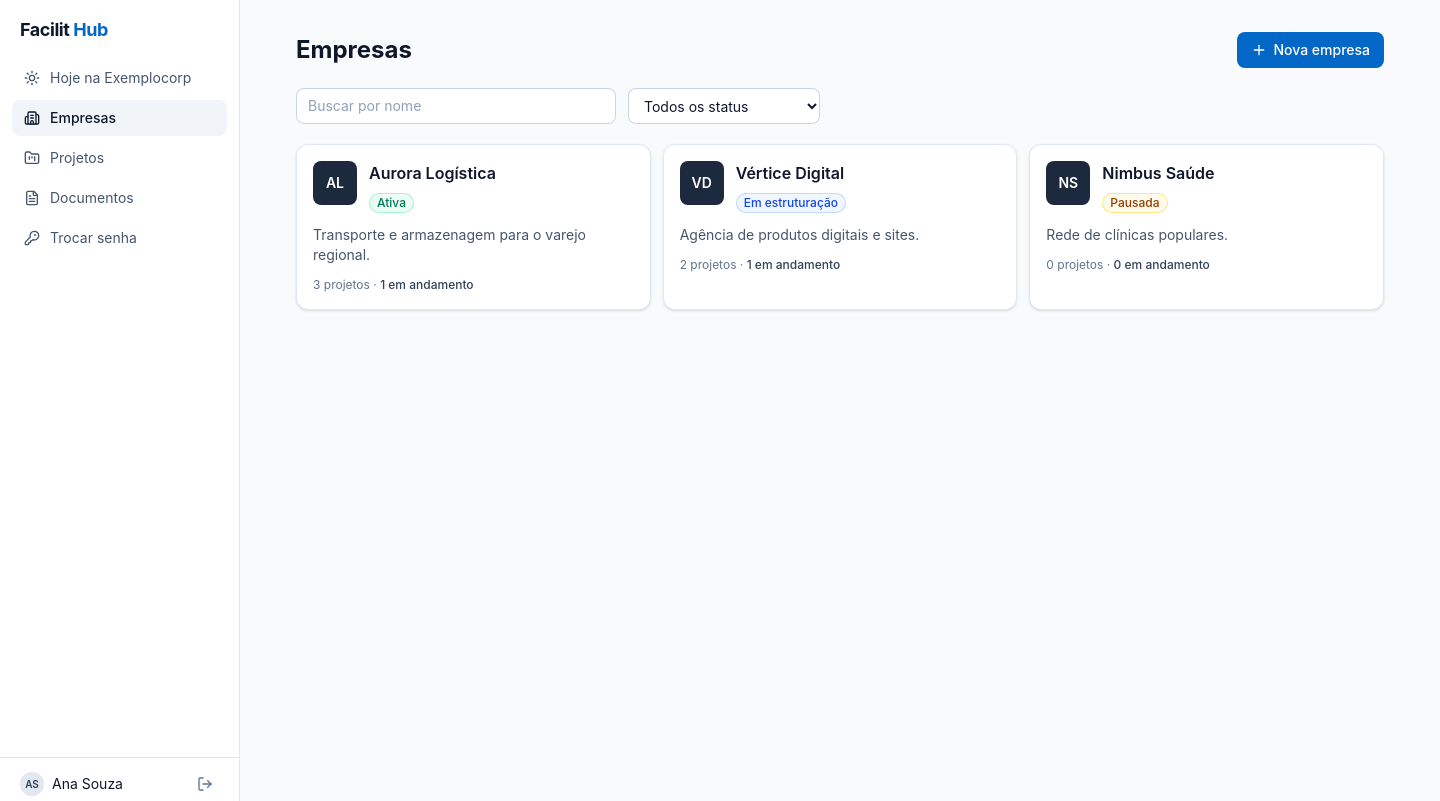
Test: empresas › cria empresa em estruturação e abre o ambiente dela
This screenshot has width=1440, height=801.
Click the button "Nova empresa" at (1311, 50), box [1237, 32, 1384, 68]
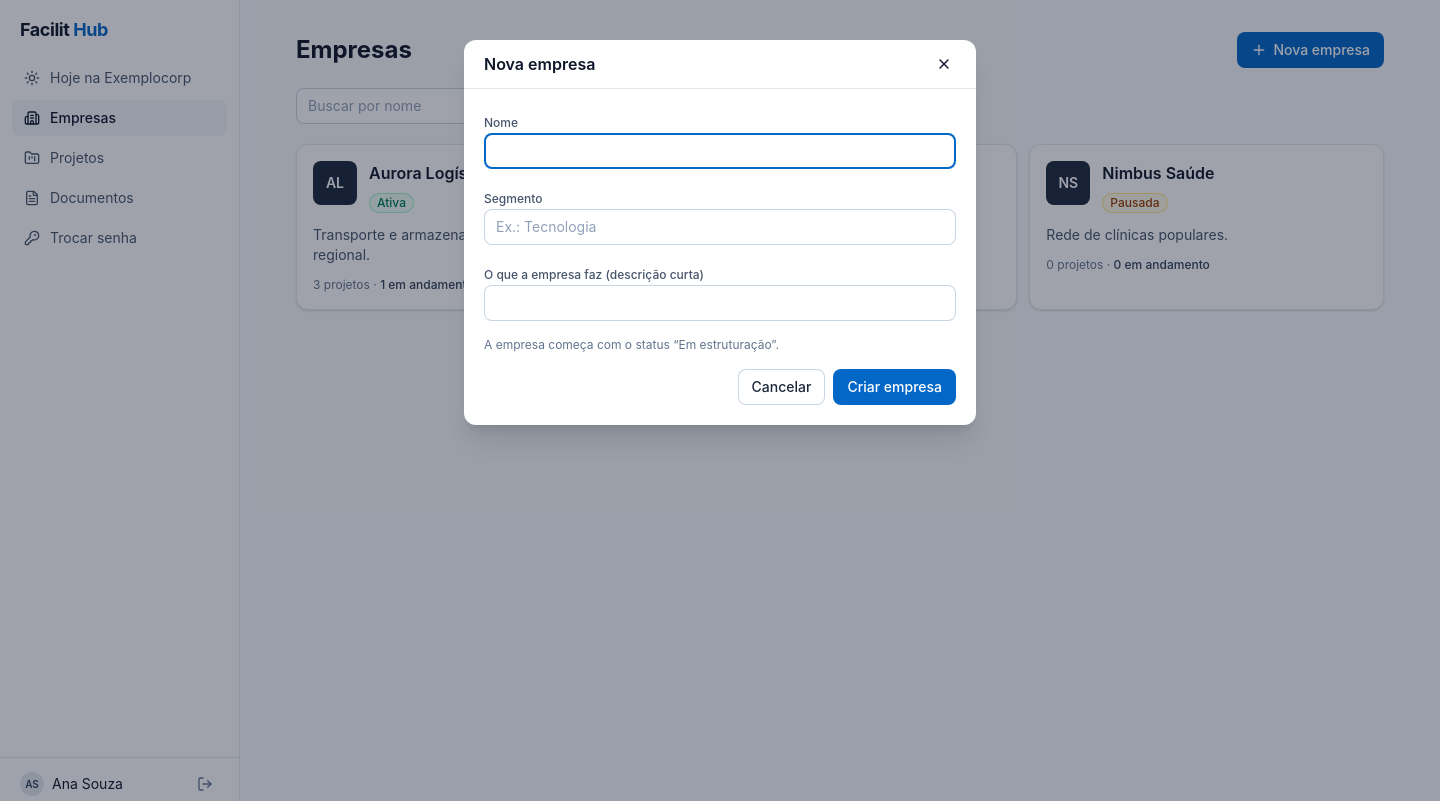
Type "Orion Educação" into the field labelled "Nome" at (720, 151), box [484, 133, 956, 169]
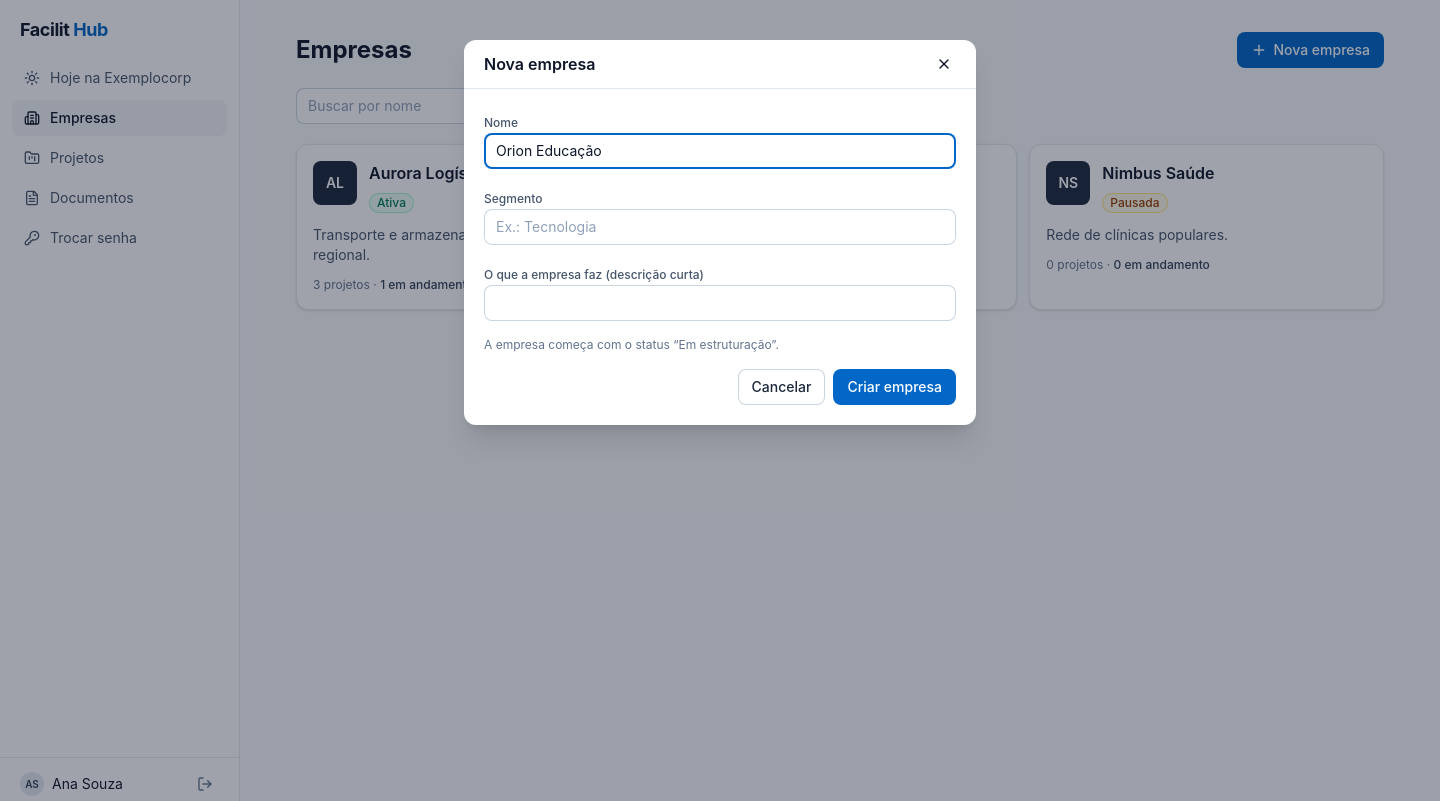
Click the button "Criar empresa" at (895, 387), box [833, 369, 956, 405]
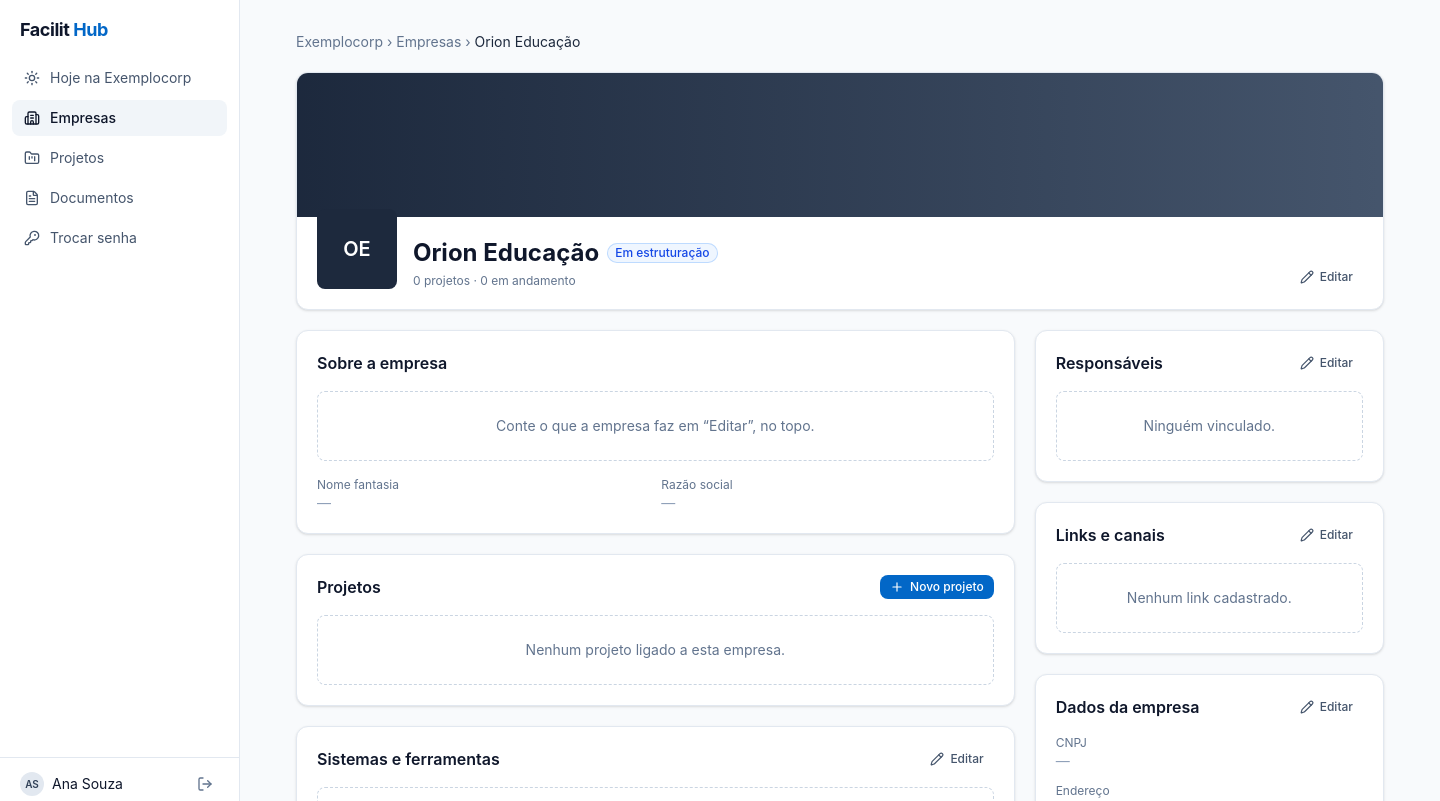
Expected: the text "Em estruturação" is shown, [607, 243, 718, 263]
Now the heading "Orion Educação" is shown, box [413, 237, 599, 269]
